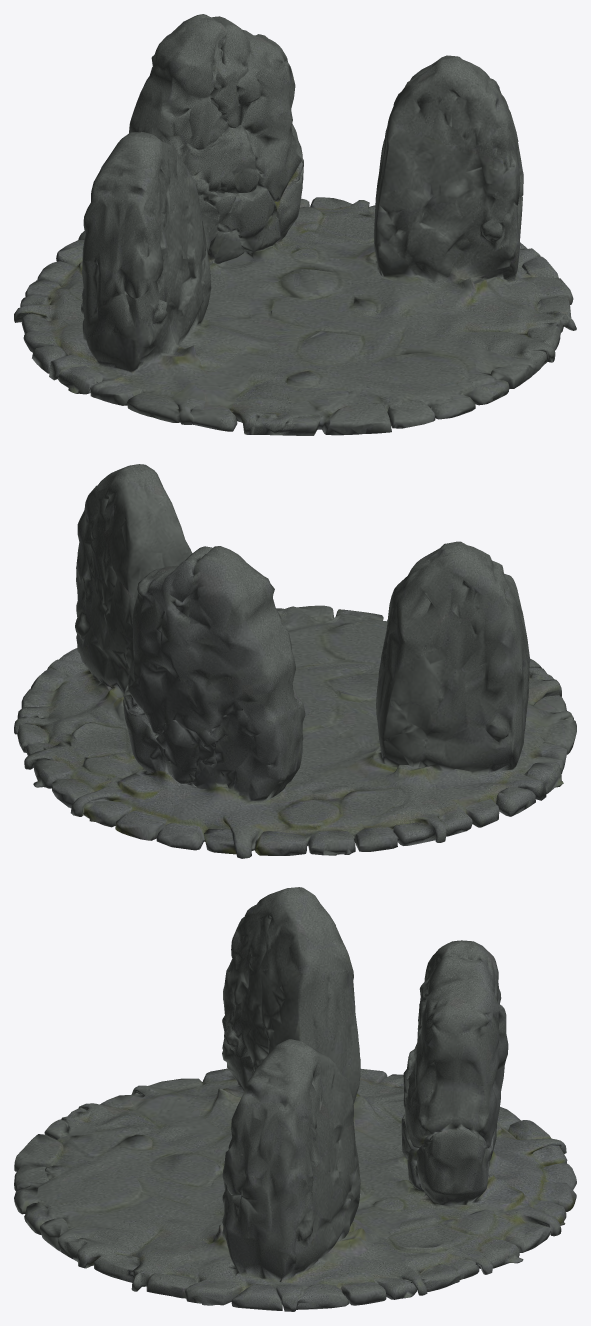
The model's file is stones.glb.
The picture shows the model from 3 angles, top to bottom: view 1: azimuth 30°, elevation 25°; view 2: azimuth 150°, elevation 25°; view 3: azimuth 270°, elevation 25°; orthographic projection. The views are drawn at different scales.
Size of the model in its own units: 1.9 by 0.9122 by 1.89.
1 material, 1 textured.
